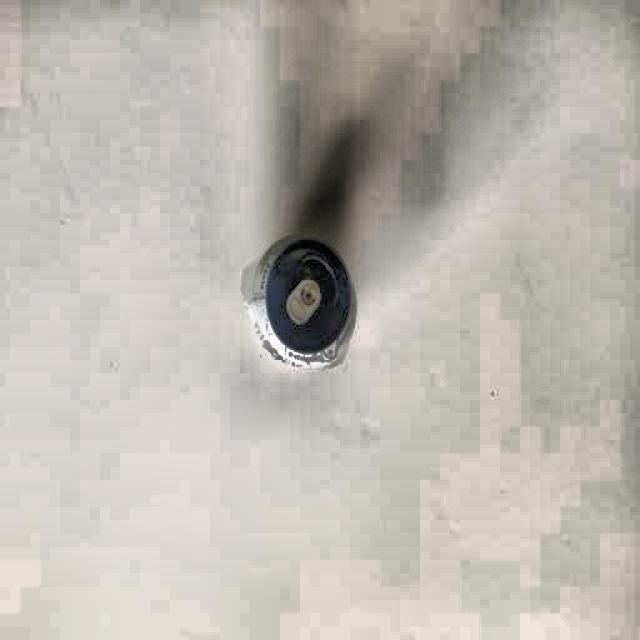metal: (242, 236, 358, 366)
